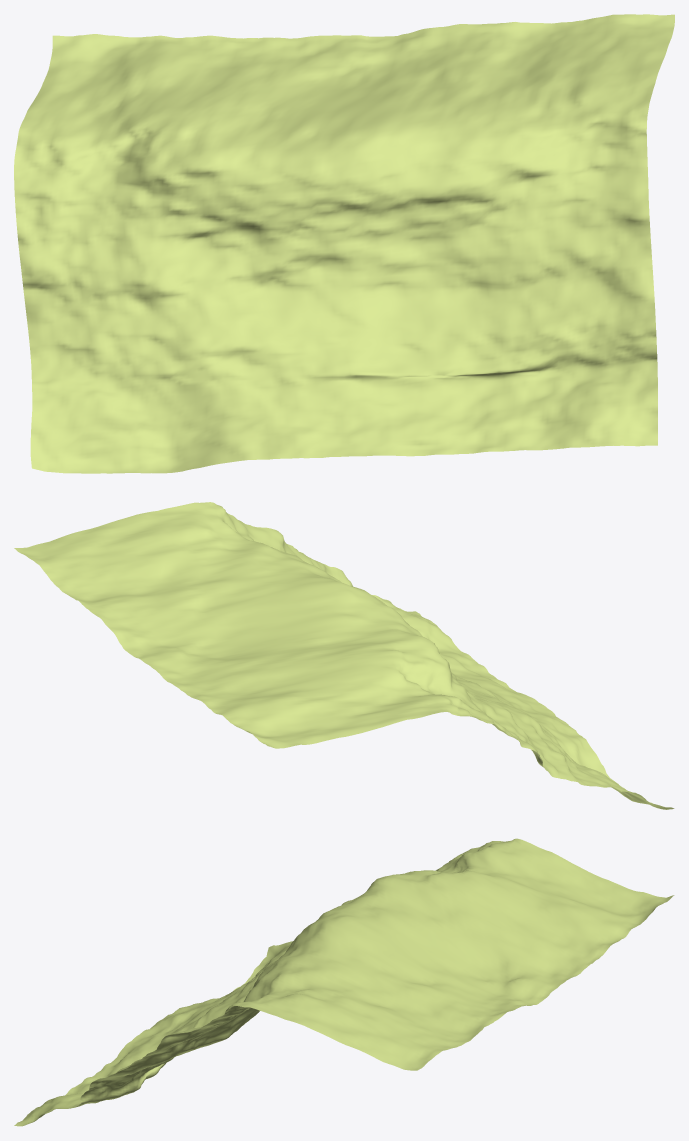
File: Cliff_006.fbx
3 views of the same model, one above another, from view 1: azimuth 30°, elevation 25°; view 2: azimuth 150°, elevation 25°; view 3: azimuth 270°, elevation 25° (orthographic). The views are drawn at different scales.
Visible parts, largest first — view 1: Plane.006; view 2: Plane.006; view 3: Plane.006.
Part boxes in pixels (left/top/right/bottom): Plane.006: left=14, top=14, right=674, bottom=473; Plane.006: left=14, top=502, right=674, bottom=809; Plane.006: left=14, top=838, right=674, bottom=1126.
Bounding box in the file's own units: 912 × 280 × 851.
